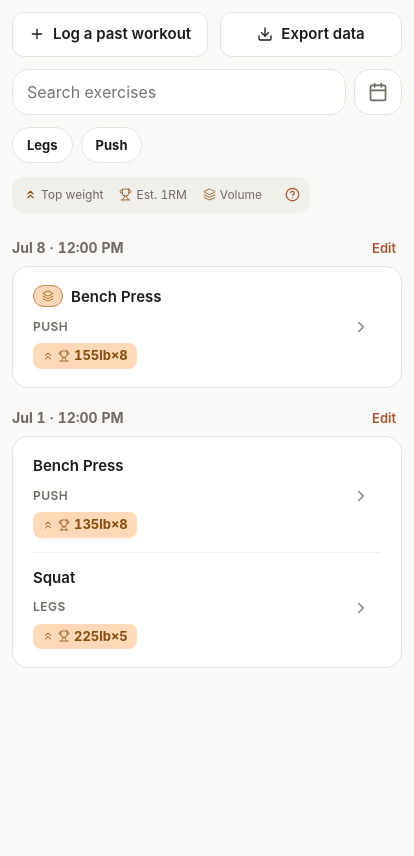
it: HistoryTab PR markers, search/tag filtering, and click-to-filter › Clear all restores the full unfiltered list
The image size is (414, 856).
Check: the button "Push" is shown, box 81,127 -> 142,163
Step 1. Type "squat" into the search field labelled "Search exercises" → coordinates (179, 92), box 12,69 -> 346,115
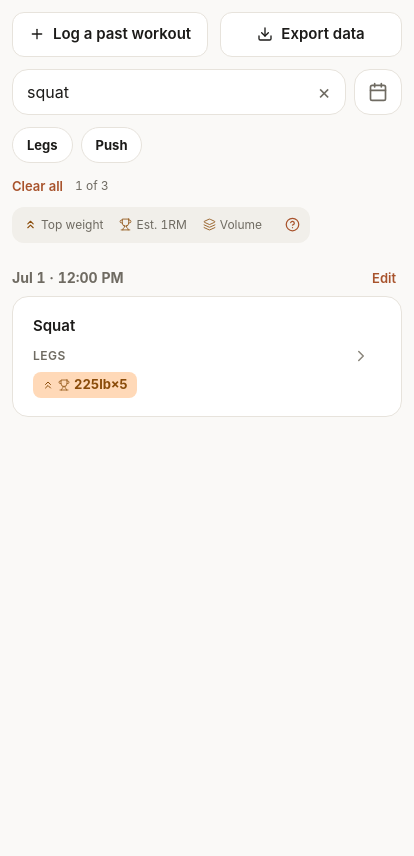
Check: the button "Bench Press" is gone
Step 2. Click the button "Clear all" → coordinates (38, 186), box 12,178 -> 63,194
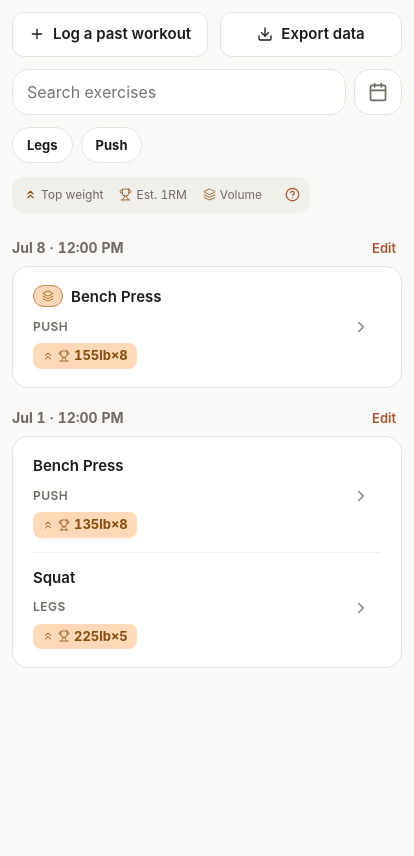
Check: the text "Squat" is shown, box 33,567 -> 75,589
Check: the text "Bench Press" below "Jul 8 · 12:00 PM" is shown, box 71,287 -> 162,306
